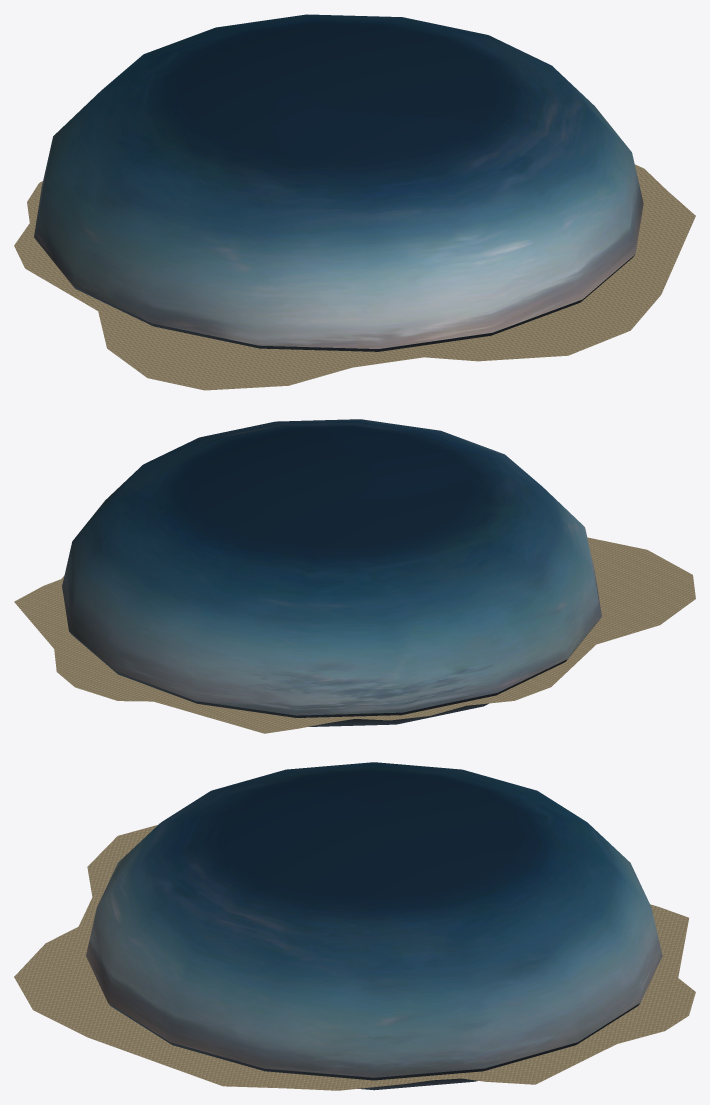
File: Castle.obj
3 renders of one model, top to bottom at view 1: azimuth 30°, elevation 25°; view 2: azimuth 150°, elevation 25°; view 3: azimuth 270°, elevation 25°, orthographic. The views are drawn at different scales.
Size of the model in its own units: 58651 by 15950 by 62884.
15 materials, 15 textured.
